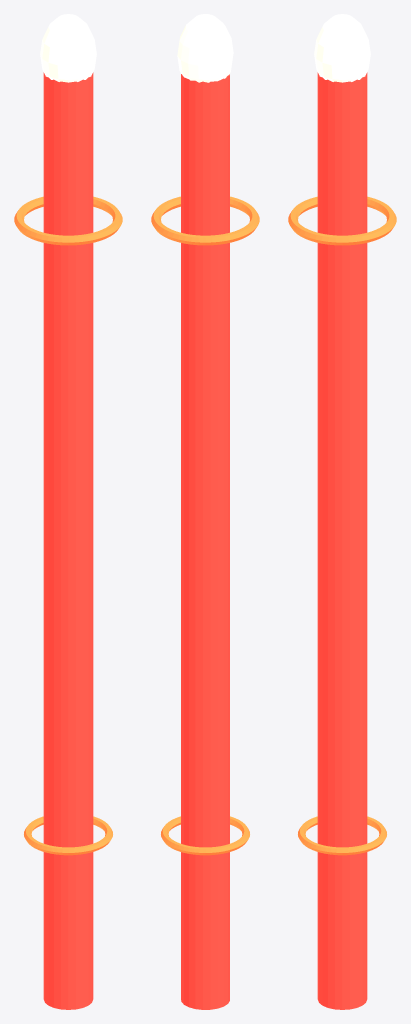
File: laser_red_pulse.glb
3 renders of one model, left to right at view 1: azimuth 90°, elevation 25°; view 2: azimuth 210°, elevation 25°; view 3: azimuth 270°, elevation 25°, orthographic.
Visible parts, largest first — view 1: laser_red_pulse; view 2: laser_red_pulse; view 3: laser_red_pulse.
Boxes of the visible parts, box(x1,y1,x2,y2) form: laser_red_pulse: box(14, 14, 122, 1009); laser_red_pulse: box(151, 14, 259, 1009); laser_red_pulse: box(288, 14, 396, 1009).
Bounding box in the file's own units: 0.198 × 1.98 × 0.198.
